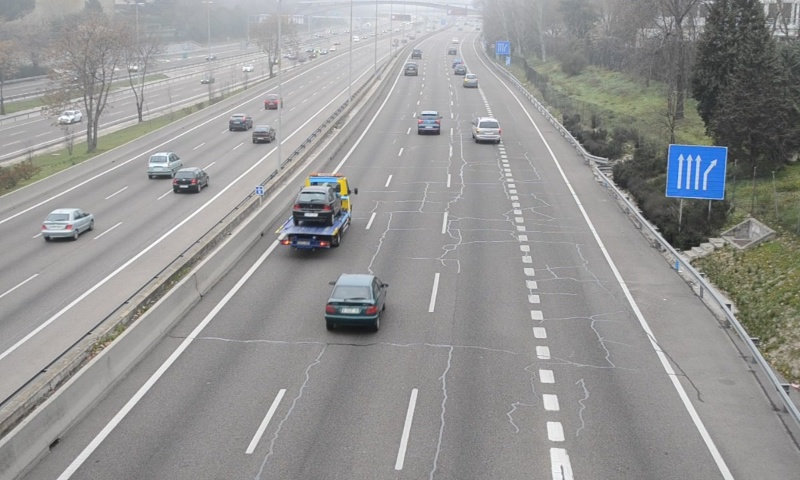car: (324, 274, 384, 326), (473, 116, 502, 142), (417, 110, 441, 132), (462, 72, 478, 88), (404, 61, 417, 76)
small-truck: (276, 173, 350, 250)
